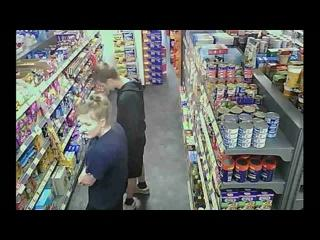Normal: (96, 63, 147, 208), (74, 92, 128, 210)
